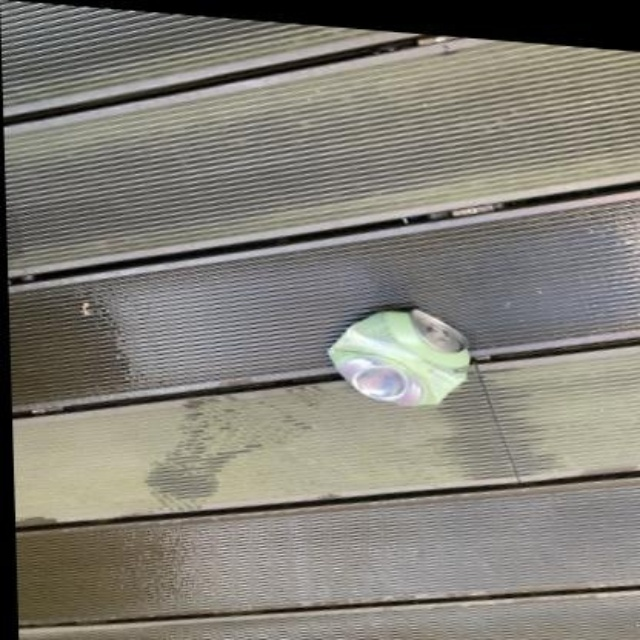trash: (329, 309, 468, 405)
